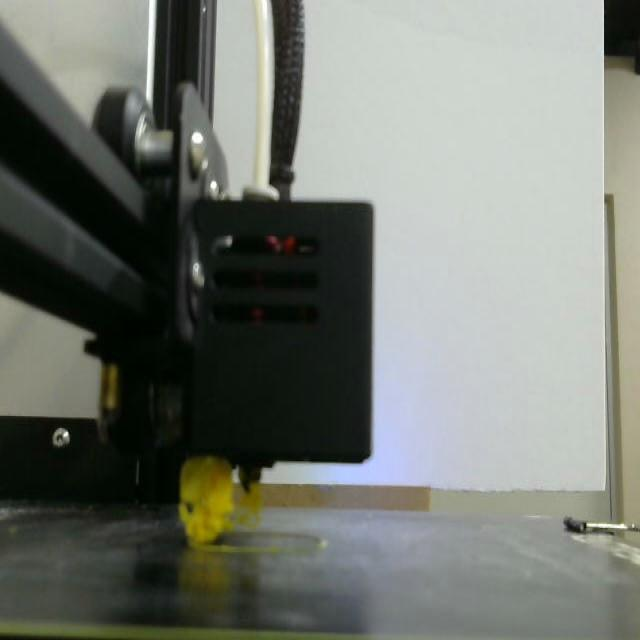spaghetti: (180, 455, 262, 545)
